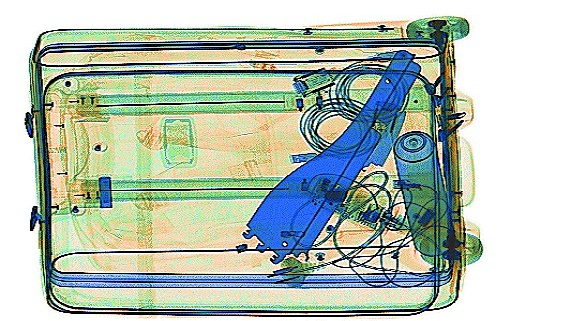knife: (332, 107, 406, 212)
pressure: (387, 108, 456, 259)
